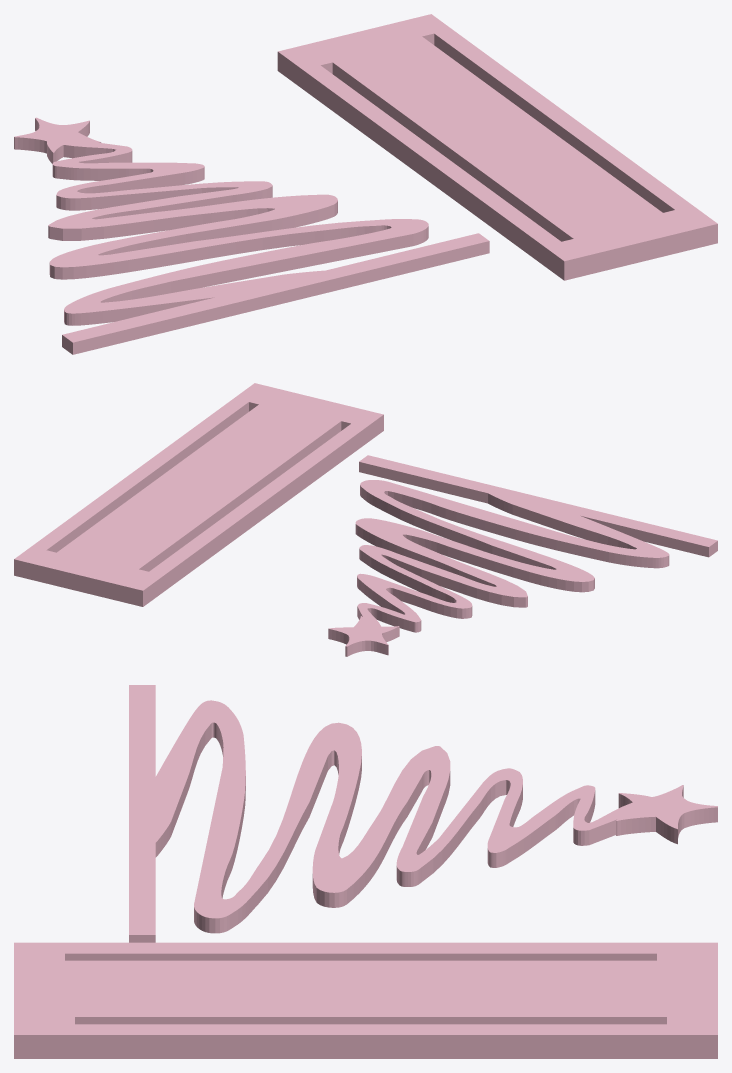
File: servilletero-navideno.glb
The picture shows the model from 3 angles, top to bottom: view 1: azimuth 30°, elevation 25°; view 2: azimuth 150°, elevation 25°; view 3: azimuth 270°, elevation 25°; orthographic projection. The views are drawn at different scales.
Visible parts, largest first — view 1: pieza; view 2: pieza; view 3: pieza.
Part boxes in pixels (x1,y1,x2,y2): pieza: (14,14,717,354); pieza: (14,383,717,656); pieza: (14,685,717,1058).
Size of the model in its own units: 0.1285 by 0.004 by 0.1066.
